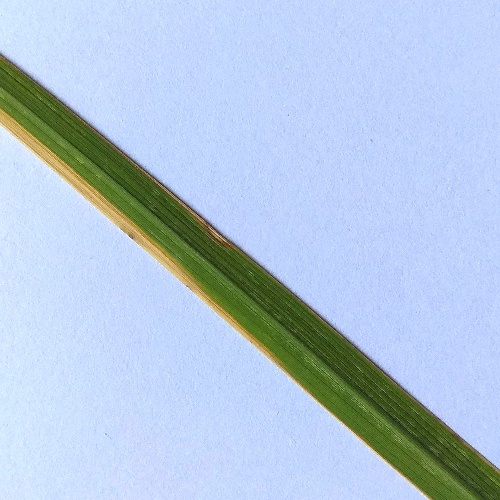Busuk Leher: (110, 222, 152, 251), (195, 223, 234, 247)
